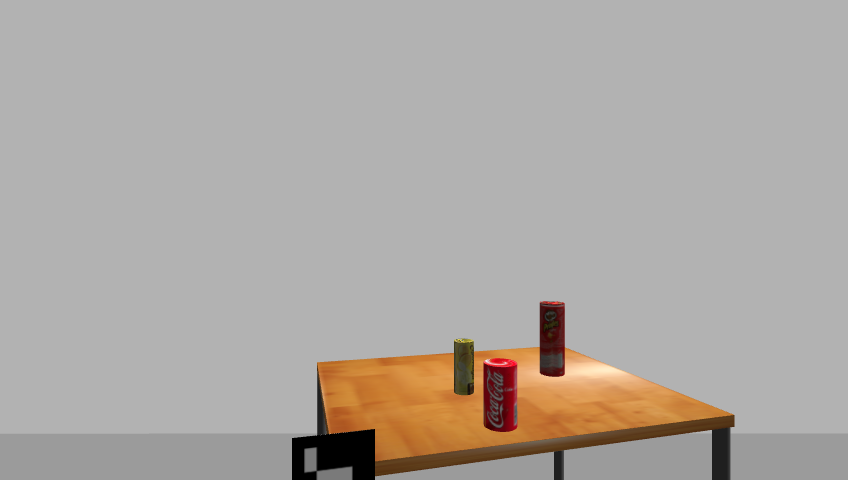aruco marker: (287, 429, 381, 480)
biscuits pack: (451, 338, 476, 397)
coke can: (481, 358, 519, 432)
dinner table: (307, 346, 743, 480)
pringles can: (537, 301, 568, 378)
